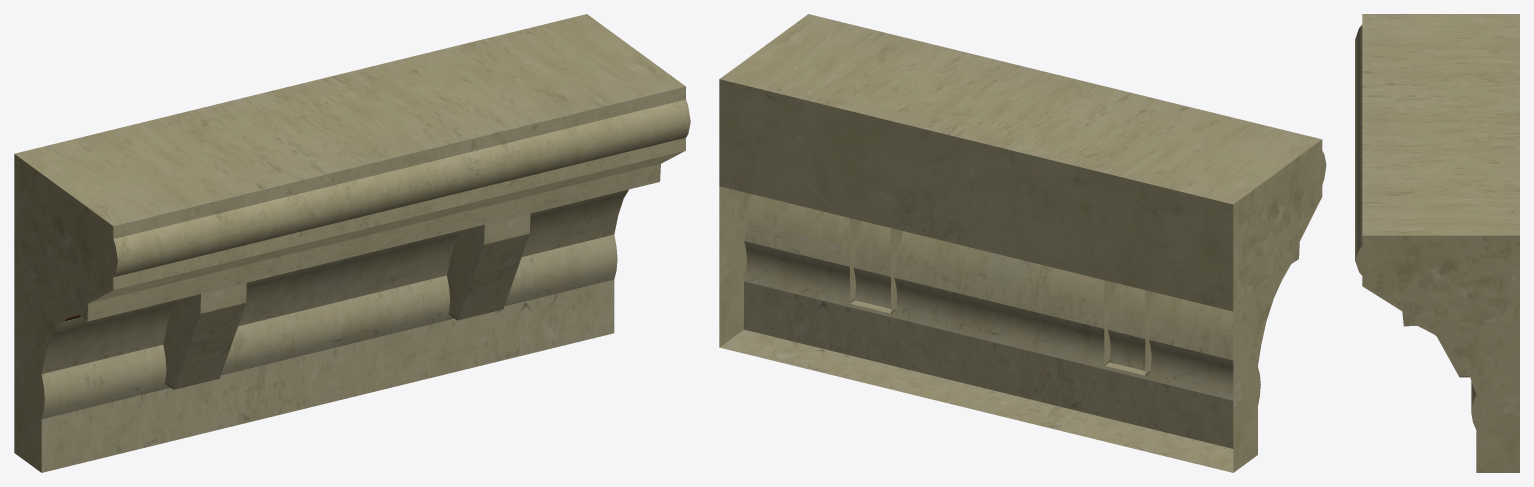
File: Cornice_Trim_Center.glb
3 renders of one model, left to right at view 1: azimuth 30°, elevation 25°; view 2: azimuth 150°, elevation 25°; view 3: azimuth 270°, elevation 25°, orthographic. The views are drawn at different scales.
Visible parts, largest first — view 1: Cornice_Trim_Center; view 2: Cornice_Trim_Center; view 3: Cornice_Trim_Center.
Part boxes in pixels (box(x1,y1,x2,y2)): Cornice_Trim_Center: box(14, 14, 690, 472); Cornice_Trim_Center: box(719, 14, 1326, 472); Cornice_Trim_Center: box(1355, 14, 1519, 472).
Size of the model in its own units: 2 by 0.9984 by 0.6278.
Materials: 1 (1 with a texture image).
